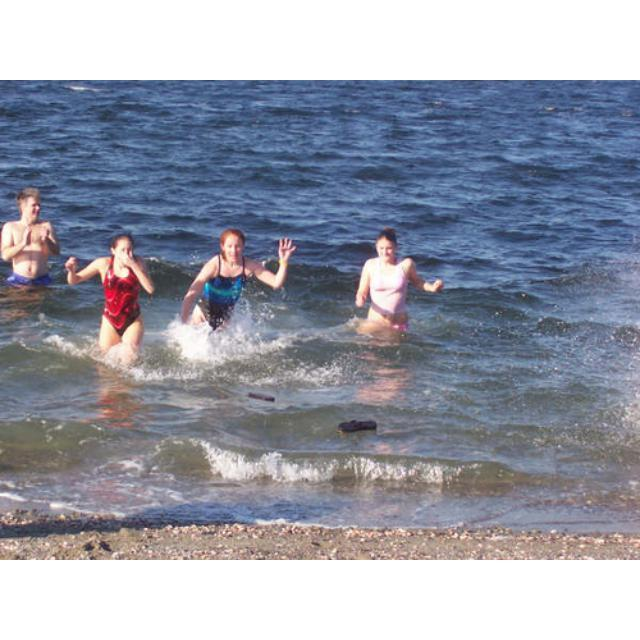human: (179, 227, 295, 325), (63, 232, 152, 353), (352, 226, 444, 330), (1, 189, 67, 286)
